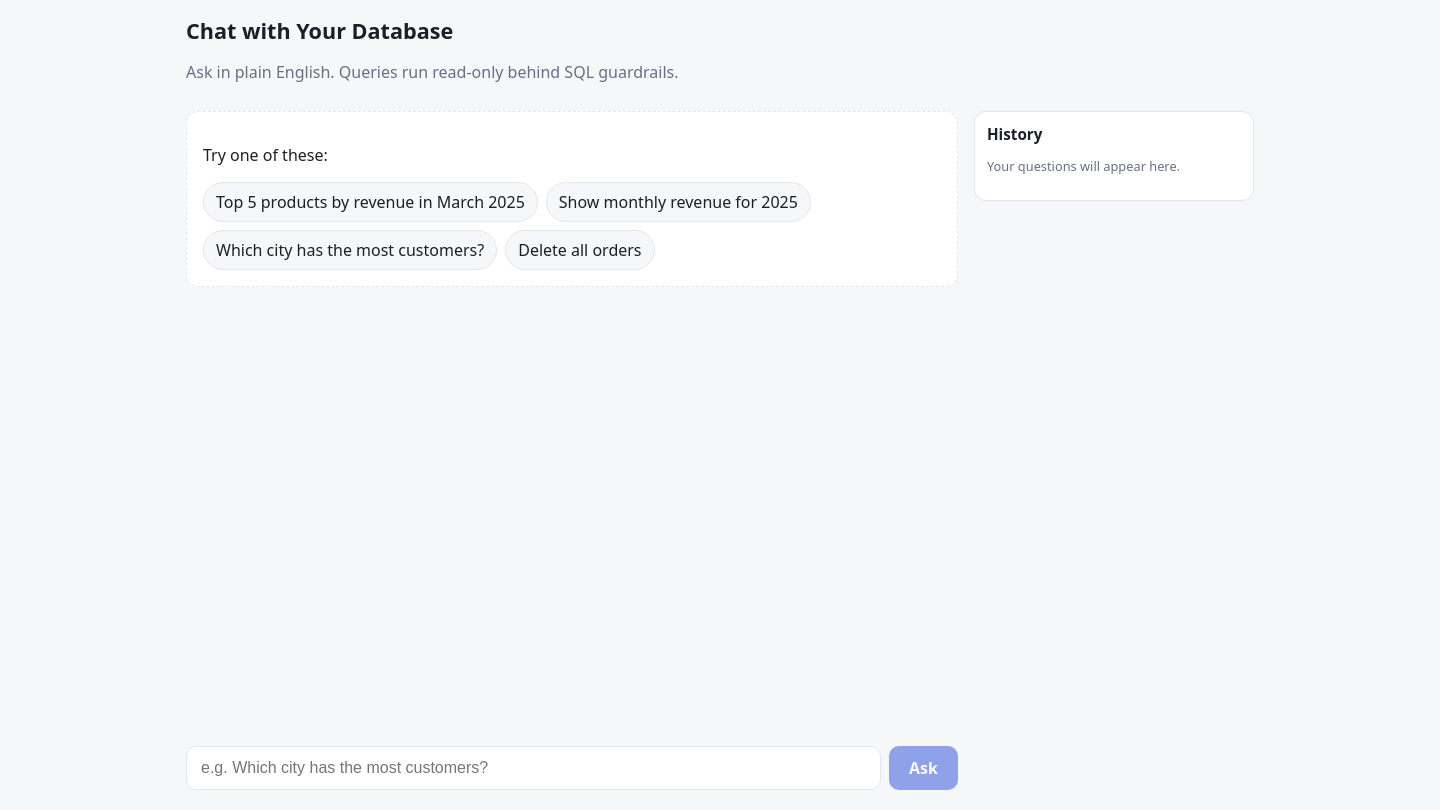
App › disables Ask until there is text
The width and height of the screenshot is (1440, 810).
Expected: the button "Ask" is disabled, [889, 746, 958, 790]
In the field named "Your question": (534, 768) [186, 746, 881, 790], type "hi"
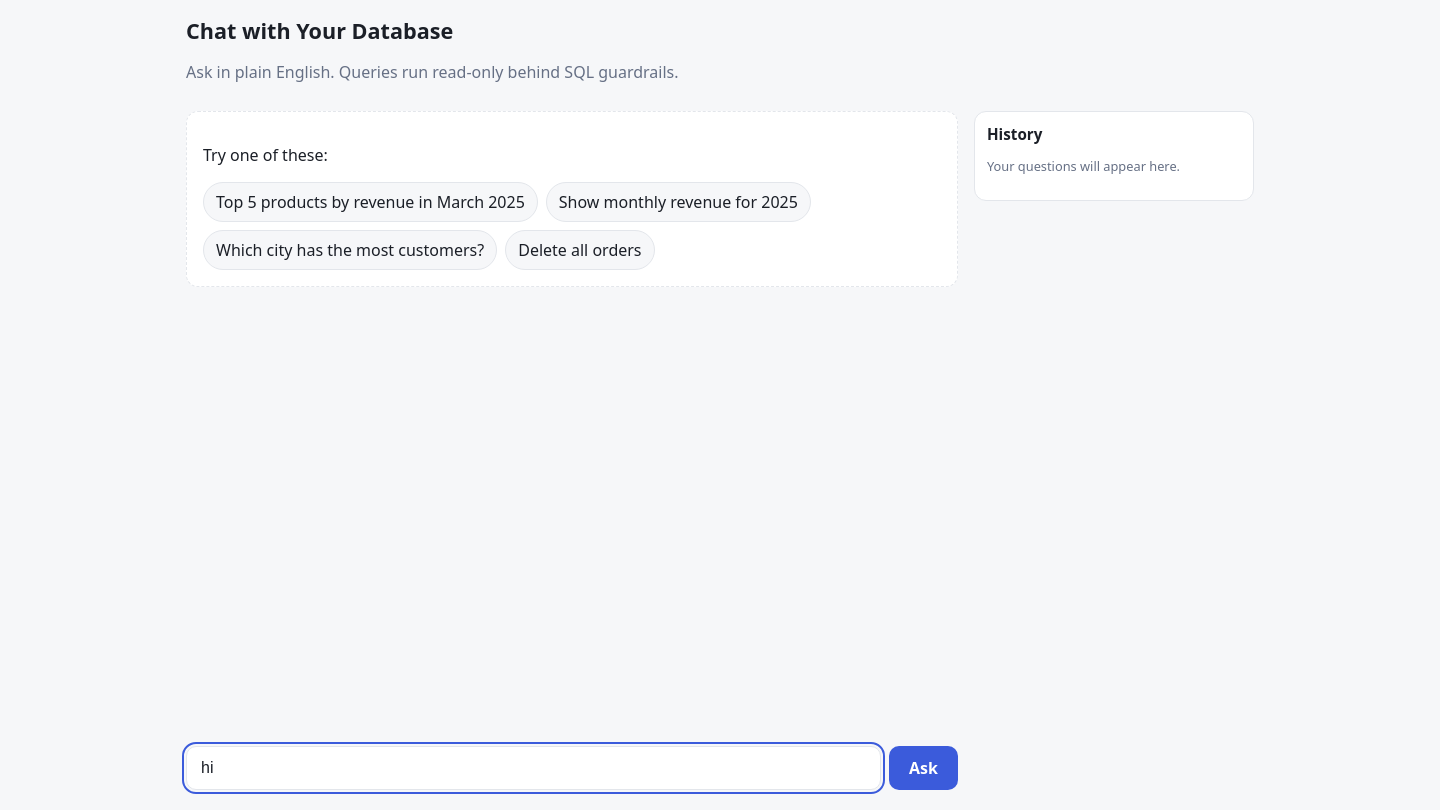
Now the button "Ask" is enabled, box [889, 746, 958, 790]
